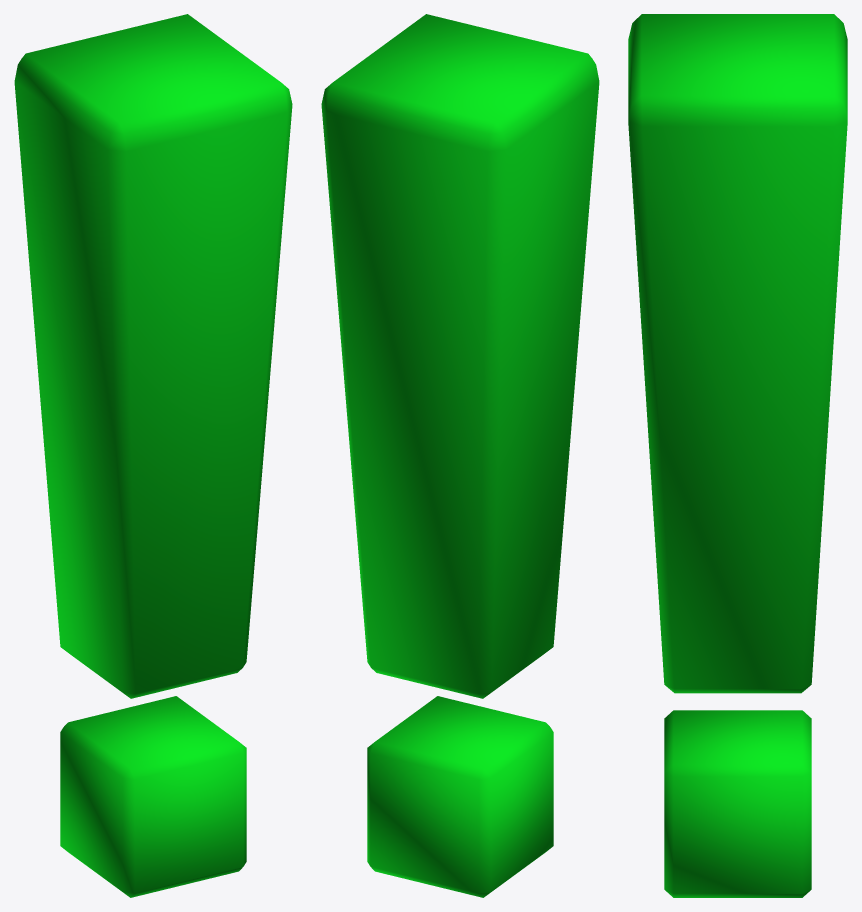
Rendered from ExclamationMark.fbx.
3 views of the same model, side by side, from view 1: azimuth 30°, elevation 25°; view 2: azimuth 150°, elevation 25°; view 3: azimuth 270°, elevation 25° (orthographic). The views are drawn at different scales.
Visible parts, largest first — view 1: Exclamation_Mark; view 2: Exclamation_Mark; view 3: Exclamation_Mark.
Boxes of the visible parts, <box> form: Exclamation_Mark: <box>14,14,292,897</box>; Exclamation_Mark: <box>321,14,599,897</box>; Exclamation_Mark: <box>628,14,847,897</box>.
Size of the model in its own units: 71.14 by 292 by 71.14.
